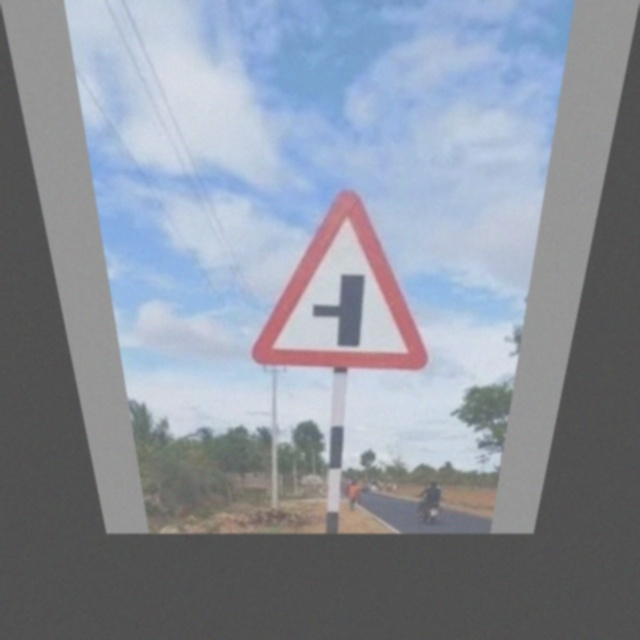Side_Road_Left: (242, 198, 449, 374)
